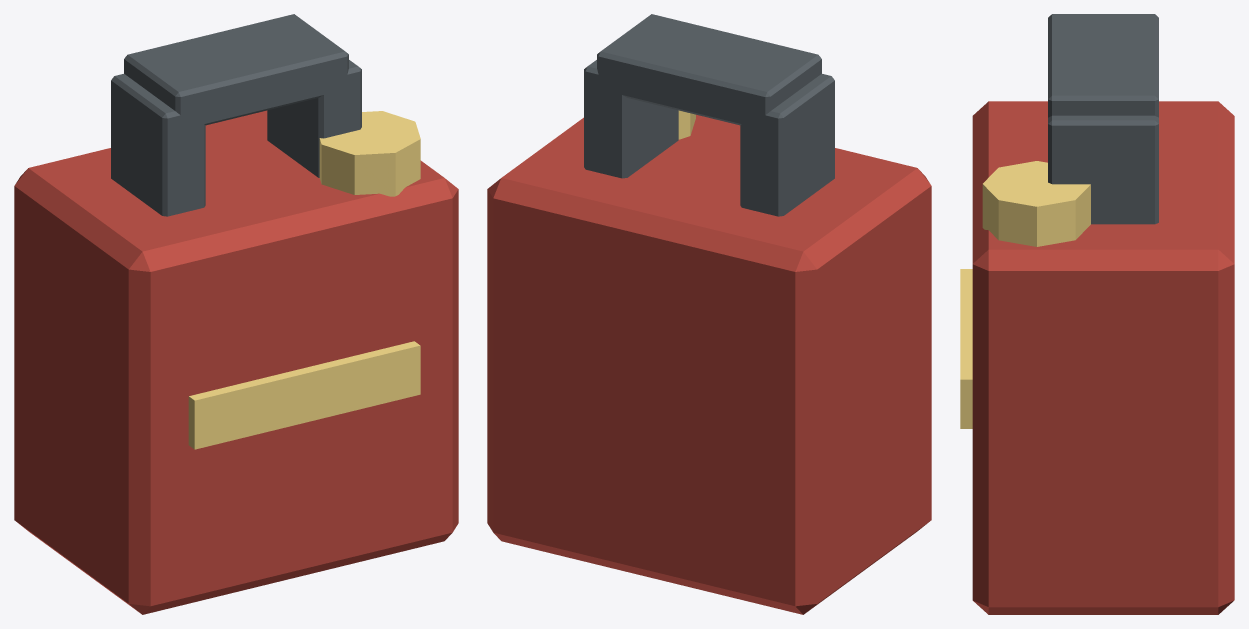
File: fuel.glb
3 renders of one model, left to right at view 1: azimuth 30°, elevation 25°; view 2: azimuth 150°, elevation 25°; view 3: azimuth 270°, elevation 25°, orthographic.
Parts seen in each view (by area): view 1: fuel / Fuel red, fuel / Graphite enamel, fuel / Gold markings and contacts; view 2: fuel / Fuel red, fuel / Graphite enamel; view 3: fuel / Fuel red, fuel / Graphite enamel, fuel / Gold markings and contacts.
Boxes of the visible parts, <box> form: fuel / Fuel red: <box>14,110,458,614</box>; fuel / Graphite enamel: <box>111,14,361,216</box>; fuel / Gold markings and contacts: <box>188,111,420,449</box>; fuel / Fuel red: <box>487,114,931,614</box>; fuel / Graphite enamel: <box>584,14,834,216</box>; fuel / Fuel red: <box>972,101,1234,614</box>; fuel / Graphite enamel: <box>1048,14,1158,224</box>; fuel / Gold markings and contacts: <box>960,161,1090,428</box>.
Bounding box in the file's own units: 0.19 × 0.266 × 0.136.
